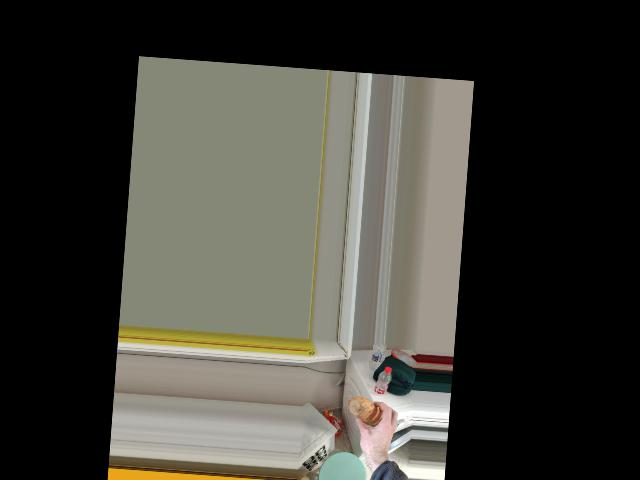sweet_potato: (352, 395, 385, 427)
